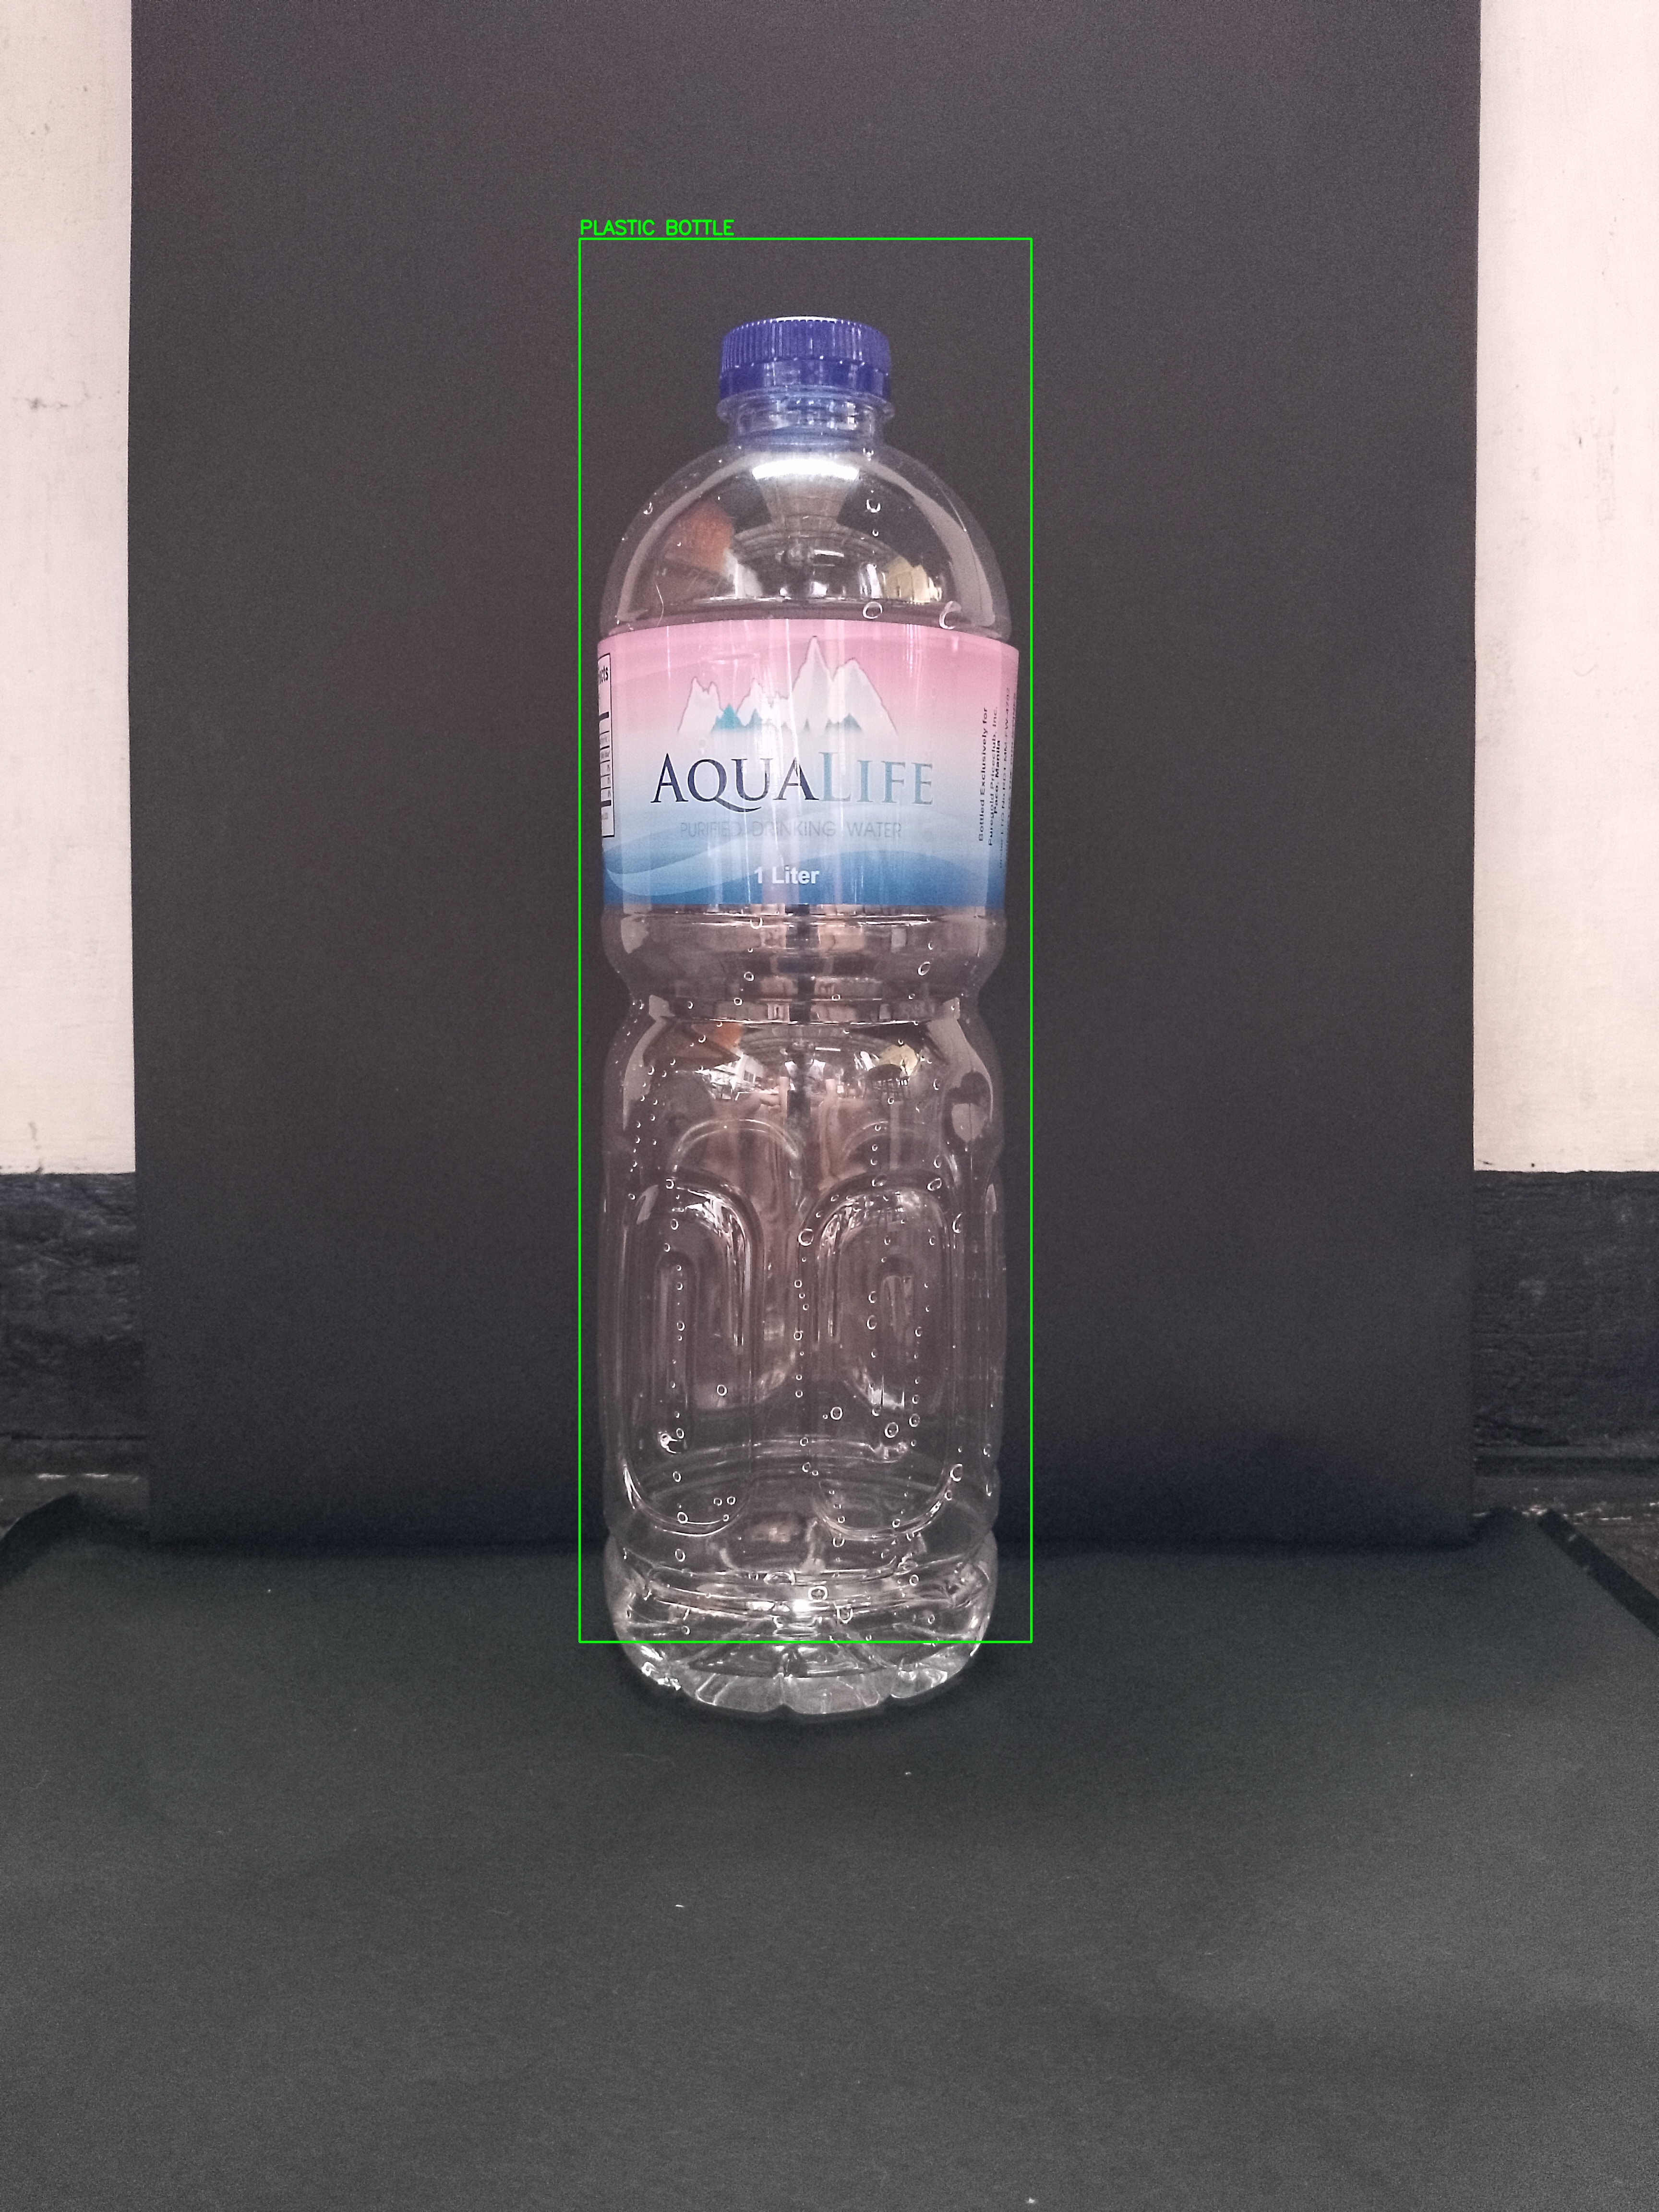plastic bottle: (568, 303, 1033, 1728)
